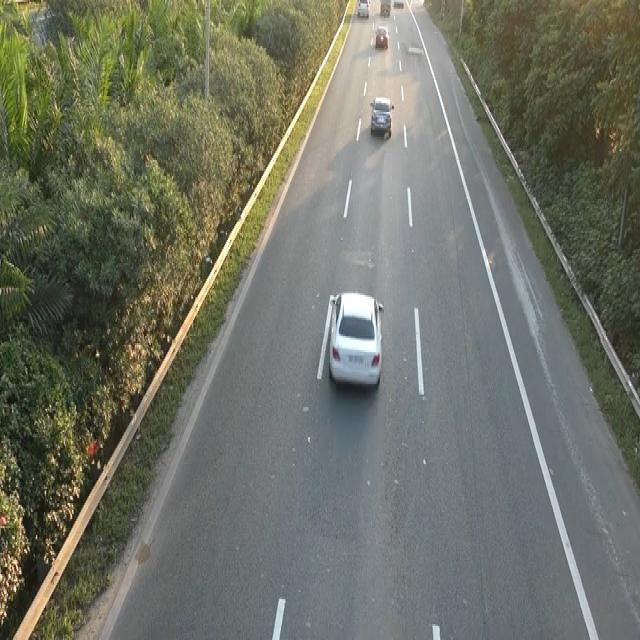bus: (323, 286, 385, 391), (368, 92, 395, 140)
